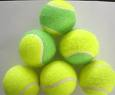tennis ball: (18, 29, 57, 70), (56, 29, 101, 64), (37, 1, 79, 37), (77, 61, 114, 95), (40, 61, 78, 94), (2, 63, 41, 94)
